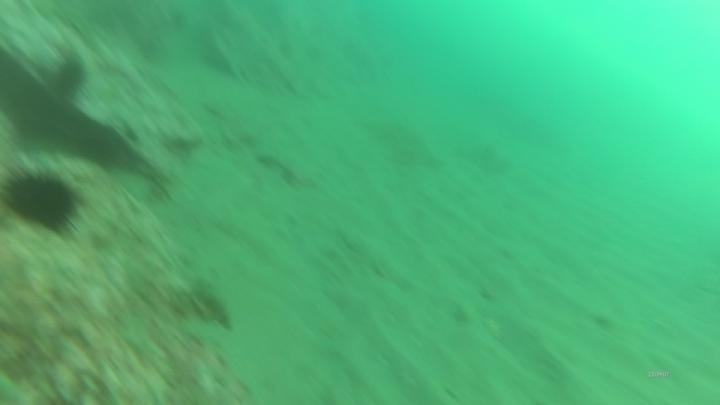echinus: (0, 163, 86, 237), (49, 52, 91, 101)
